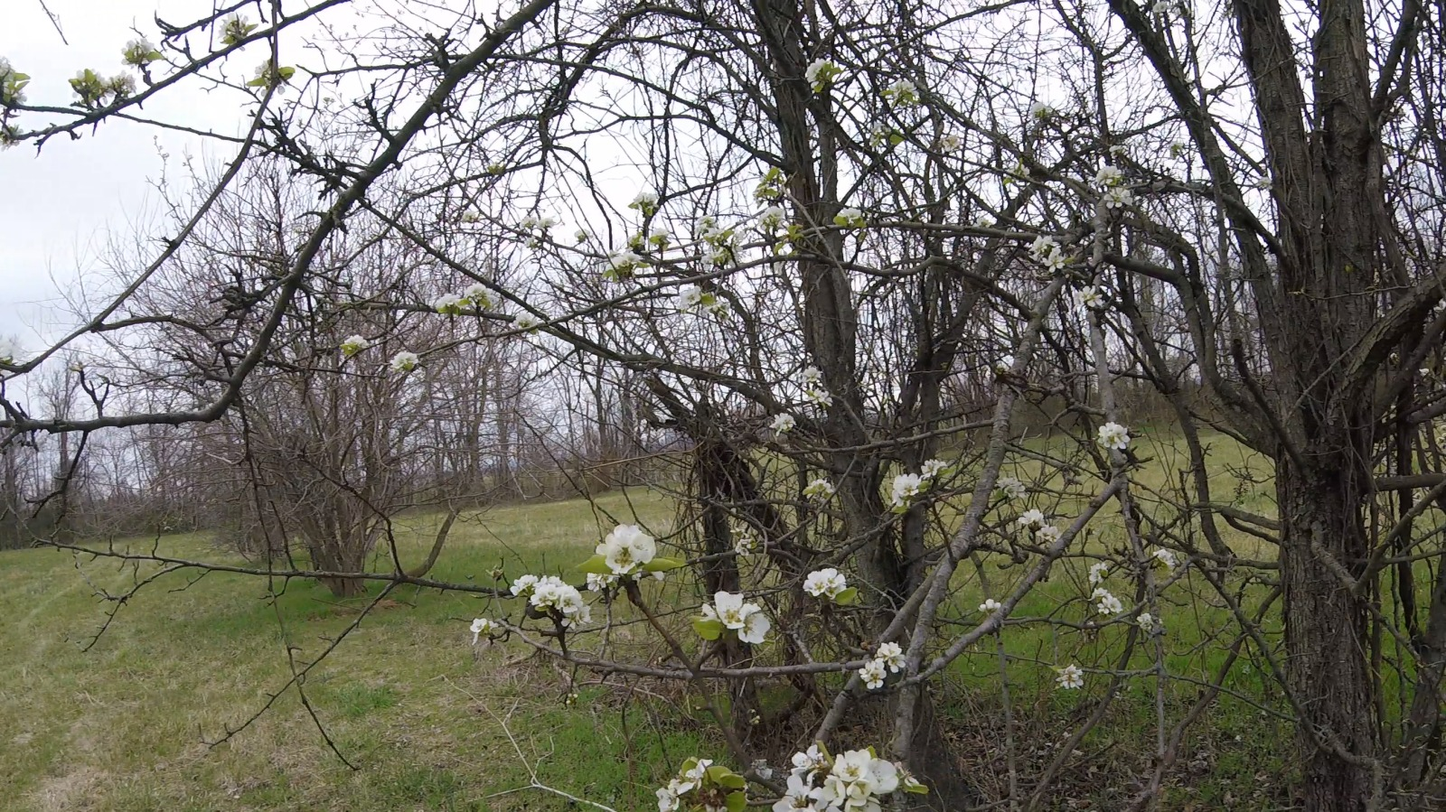flower: (773, 745, 906, 812), (510, 574, 606, 628), (713, 592, 774, 644), (595, 525, 657, 575), (890, 460, 948, 512), (656, 760, 713, 812), (859, 642, 911, 689), (435, 282, 493, 313), (1025, 236, 1068, 276), (1016, 509, 1063, 545), (803, 568, 854, 601), (1087, 155, 1122, 191), (1099, 184, 1135, 218), (388, 344, 425, 375), (1071, 285, 1105, 313), (1098, 422, 1131, 450), (1088, 588, 1123, 614), (753, 203, 786, 229), (805, 58, 832, 89), (671, 284, 701, 311), (1089, 560, 1115, 590), (887, 78, 920, 101), (770, 414, 803, 437), (995, 477, 1028, 500), (509, 310, 546, 330), (611, 248, 643, 270), (1056, 665, 1084, 690), (793, 366, 823, 388), (701, 247, 725, 272), (218, 13, 238, 42), (127, 35, 156, 55), (700, 219, 729, 239), (340, 335, 378, 349), (804, 388, 833, 406), (471, 619, 488, 646), (837, 206, 862, 224), (698, 604, 721, 622), (649, 228, 676, 242), (652, 572, 666, 582), (692, 240, 700, 244), (702, 239, 708, 243), (122, 51, 127, 55)
